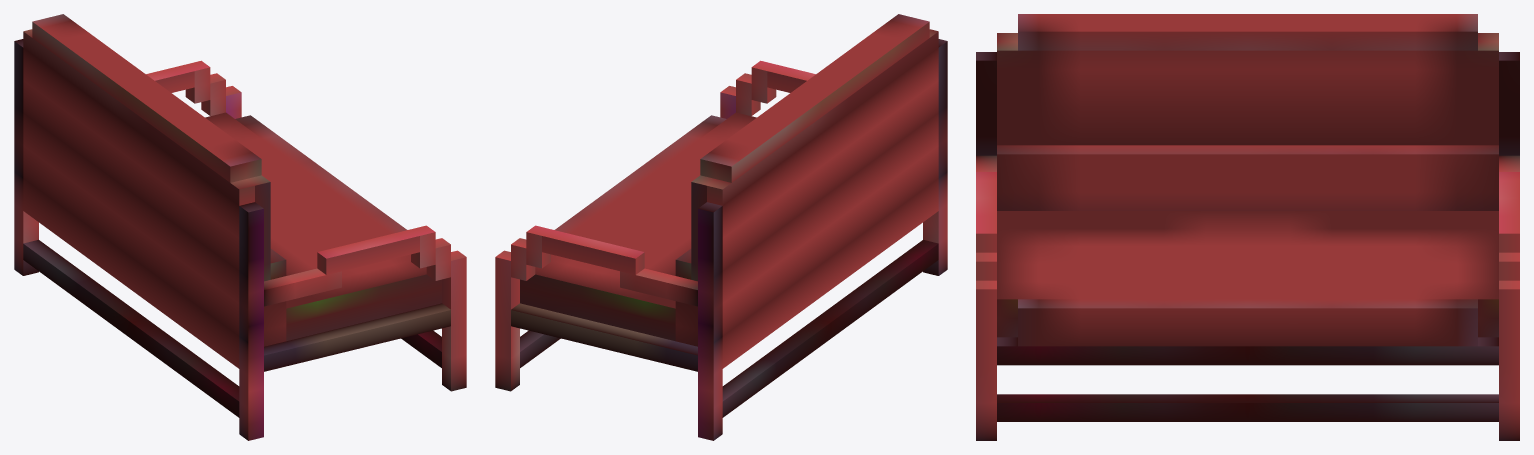
Rendered from Couch_00.fbx.
3 renders of one model, left to right at view 1: azimuth 30°, elevation 25°; view 2: azimuth 150°, elevation 25°; view 3: azimuth 270°, elevation 25°, orthographic. The views are drawn at different scales.
Visible parts, largest first — view 1: Couch_00; view 2: Couch_00; view 3: Couch_00.
Part boxes in pixels (x1,y1,x2,y2): Couch_00: [14, 14, 466, 440]; Couch_00: [495, 14, 947, 440]; Couch_00: [976, 14, 1519, 440].
Size of the model in its own units: 70 by 80 by 130.
